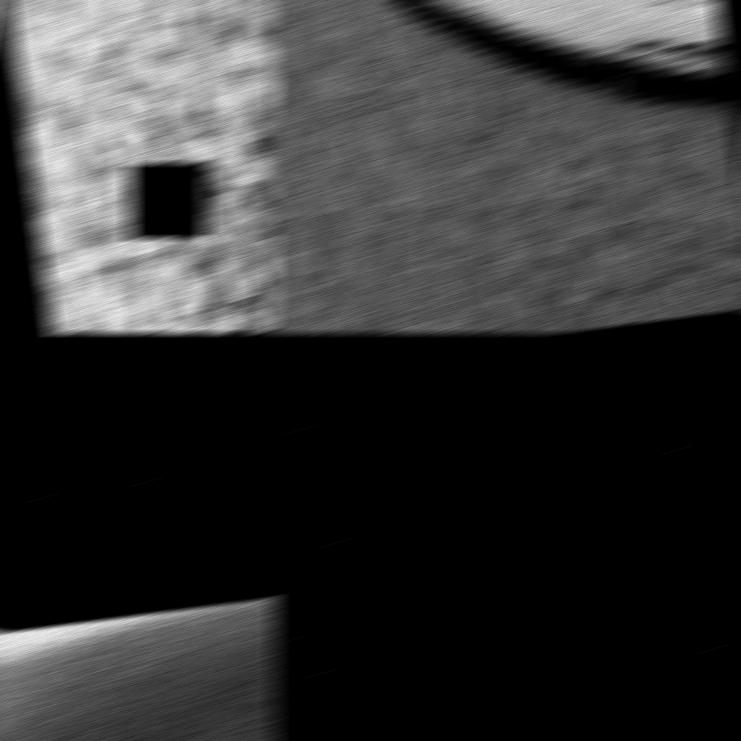Airbag: (270, 1, 741, 332), (0, 1, 278, 332), (0, 546, 278, 740)
